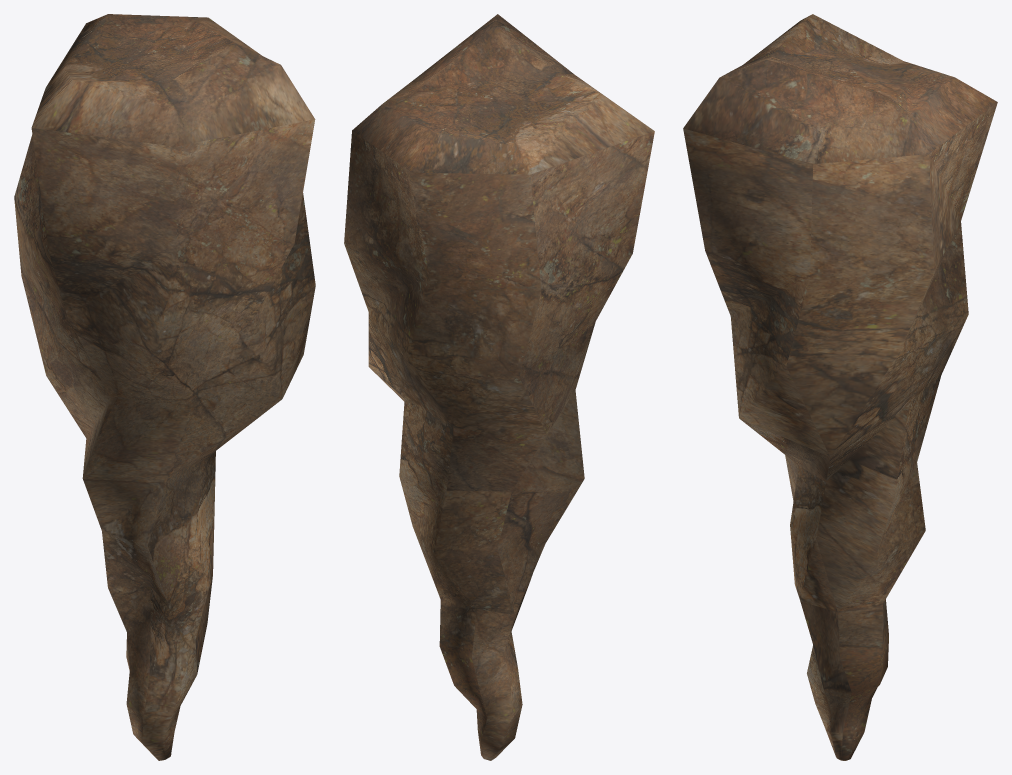
The model's file is DripstoneShort.fbx.
3 views of the same model, side by side, from view 1: azimuth 30°, elevation 25°; view 2: azimuth 150°, elevation 25°; view 3: azimuth 270°, elevation 25° (orthographic). The views are drawn at different scales.
Visible parts, largest first — view 1: dripstone_short; view 2: dripstone_short; view 3: dripstone_short.
Boxes of the visible parts, <box> form: dripstone_short: <box>14,14,315,760</box>; dripstone_short: <box>344,14,654,760</box>; dripstone_short: <box>683,14,997,760</box>.
Size of the model in its own units: 24.86 by 60.86 by 24.21.
